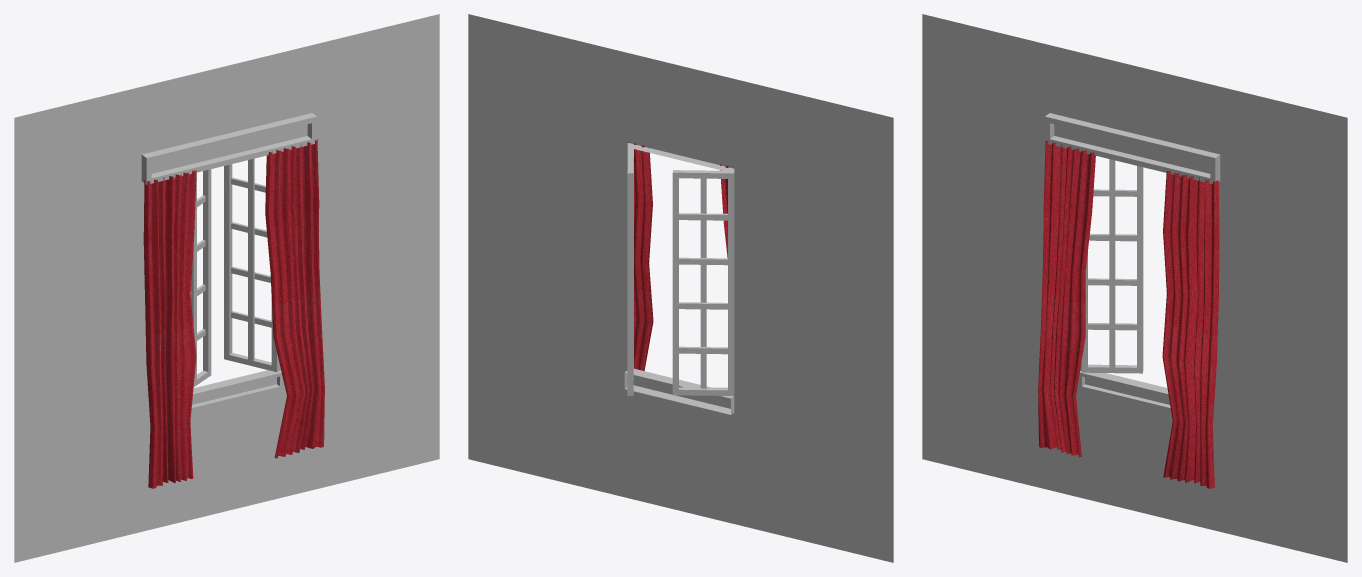
The model's file is SM_Window_02.fbx.
3 views of the same model, side by side, from view 1: azimuth 30°, elevation 25°; view 2: azimuth 150°, elevation 25°; view 3: azimuth 330°, elevation 25° (orthographic).
Parts seen in each view (by area): view 1: SM_Window_02; view 2: SM_Window_02; view 3: SM_Window_02.
Boxes of the visible parts, <box> form: SM_Window_02: <box>14,14,439,562</box>; SM_Window_02: <box>468,14,893,562</box>; SM_Window_02: <box>922,14,1347,562</box>.
Bounding box in the file's own units: 400 × 400 × 65.86.
